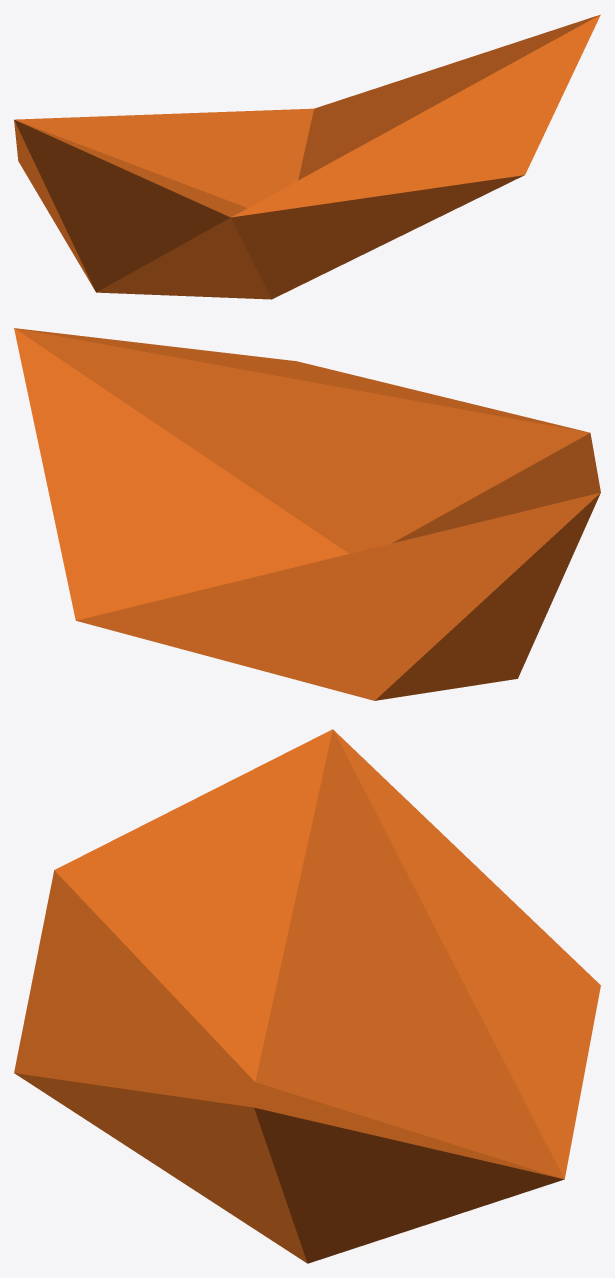
The model's file is leaf_5.fbx.
3 views of the same model, one above another, from view 1: azimuth 30°, elevation 25°; view 2: azimuth 150°, elevation 25°; view 3: azimuth 270°, elevation 25° (orthographic). The views are drawn at different scales.
Visible parts, largest first — view 1: leaf_5; view 2: leaf_5; view 3: leaf_5.
Boxes of the visible parts, <box> form: leaf_5: <box>14,14,600,299</box>; leaf_5: <box>14,328,600,700</box>; leaf_5: <box>14,729,600,1263</box>.
Size of the model in its own units: 65.91 by 26.4 by 44.71.
